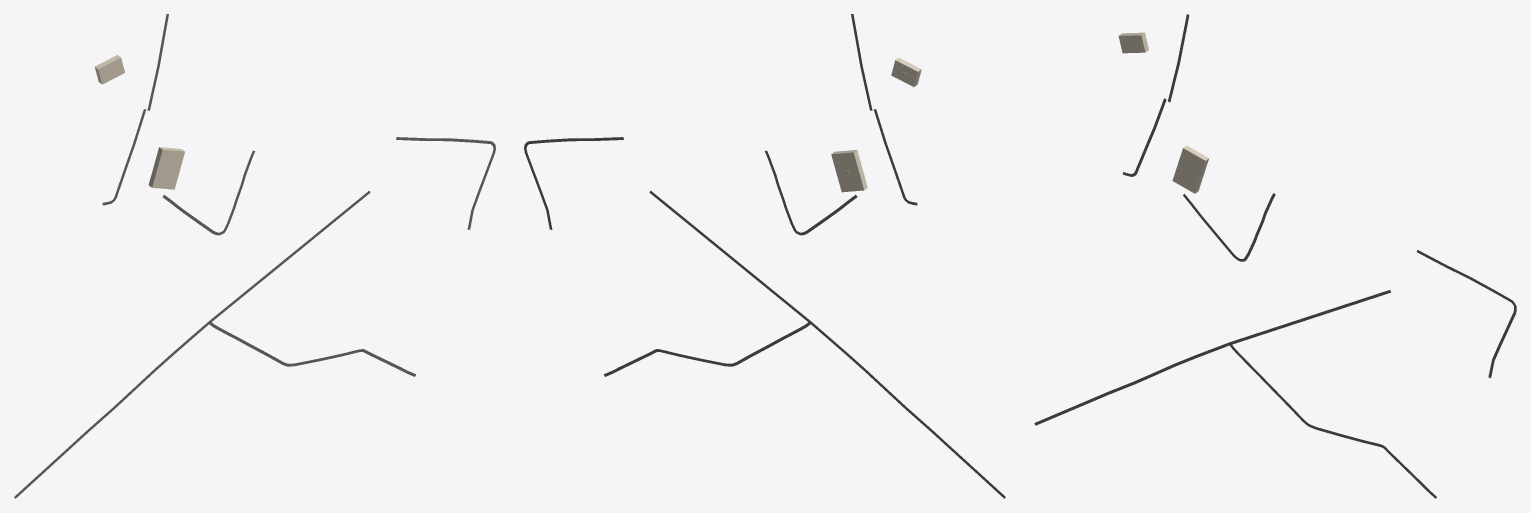
The model's file is madaba_3575_3176.glb.
The picture shows the model from 3 angles, left to right: view 1: azimuth 30°, elevation 25°; view 2: azimuth 150°, elevation 25°; view 3: azimuth 330°, elevation 25°; orthographic projection.
Parts seen in each view (by area): view 1: Road .002, Building_.001, Road .001, Road .003, Building_, Road; view 2: Road .002, Building_.001, Road .001, Road .003, Building_, Road; view 3: Road .002, Building_.001, Road .001, Road .003, Building_, Road.
Boxes of the visible parts, x1=… form: Road .002: x1=14, y1=190, x2=370, y2=498; Building_.001: x1=148, y1=147, x2=184, y2=189; Road .001: x1=209, y1=321, x2=415, y2=376; Road .003: x1=396, y1=137, x2=495, y2=229; Building_: x1=95, y1=55, x2=124, y2=84; Road: x1=162, y1=150, x2=255, y2=235; Road .002: x1=649, y1=190, x2=1005, y2=498; Building_.001: x1=831, y1=149, x2=867, y2=192; Road .001: x1=604, y1=322, x2=810, y2=376; Road .003: x1=524, y1=137, x2=623, y2=229; Building_: x1=891, y1=57, x2=921, y2=86; Road: x1=764, y1=150, x2=857, y2=235; Road .002: x1=1034, y1=290, x2=1390, y2=425; Building_.001: x1=1172, y1=145, x2=1208, y2=193; Road .001: x1=1229, y1=343, x2=1436, y2=498; Road .003: x1=1417, y1=250, x2=1516, y2=378; Building_: x1=1118, y1=32, x2=1148, y2=53; Road: x1=1183, y1=193, x2=1275, y2=261.
Bounding box in the file's own units: 577 × 513 × 8.7.
